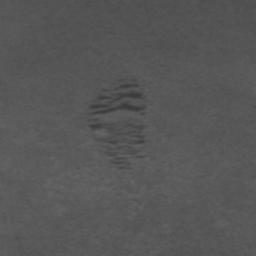Secondary rust skin: (88, 75, 147, 169)
